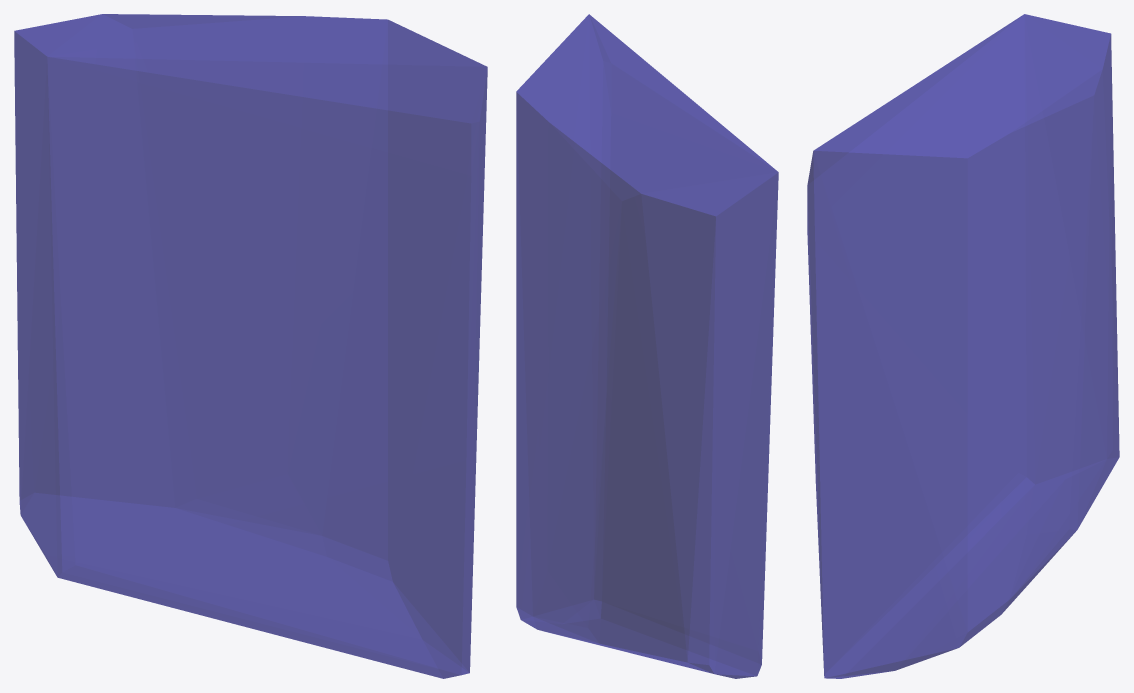
3 renders of one model, left to right at view 1: azimuth 30°, elevation 25°; view 2: azimuth 150°, elevation 25°; view 3: azimuth 270°, elevation 25°, orthographic. The views are drawn at different scales.
Visible parts, largest first — view 1: Shape_IndexedFaceSet.013_Shape_IndexedFaceSet.18074; view 2: Shape_IndexedFaceSet.013_Shape_IndexedFaceSet.18074; view 3: Shape_IndexedFaceSet.013_Shape_IndexedFaceSet.18074.
Part boxes in pixels (box(x1,y1,x2,y2)): Shape_IndexedFaceSet.013_Shape_IndexedFaceSet.18074: box(14, 14, 487, 678); Shape_IndexedFaceSet.013_Shape_IndexedFaceSet.18074: box(516, 14, 778, 678); Shape_IndexedFaceSet.013_Shape_IndexedFaceSet.18074: box(807, 14, 1119, 678).
Size of the model in its own units: 0.1132 by 0.2086 by 0.1093.
